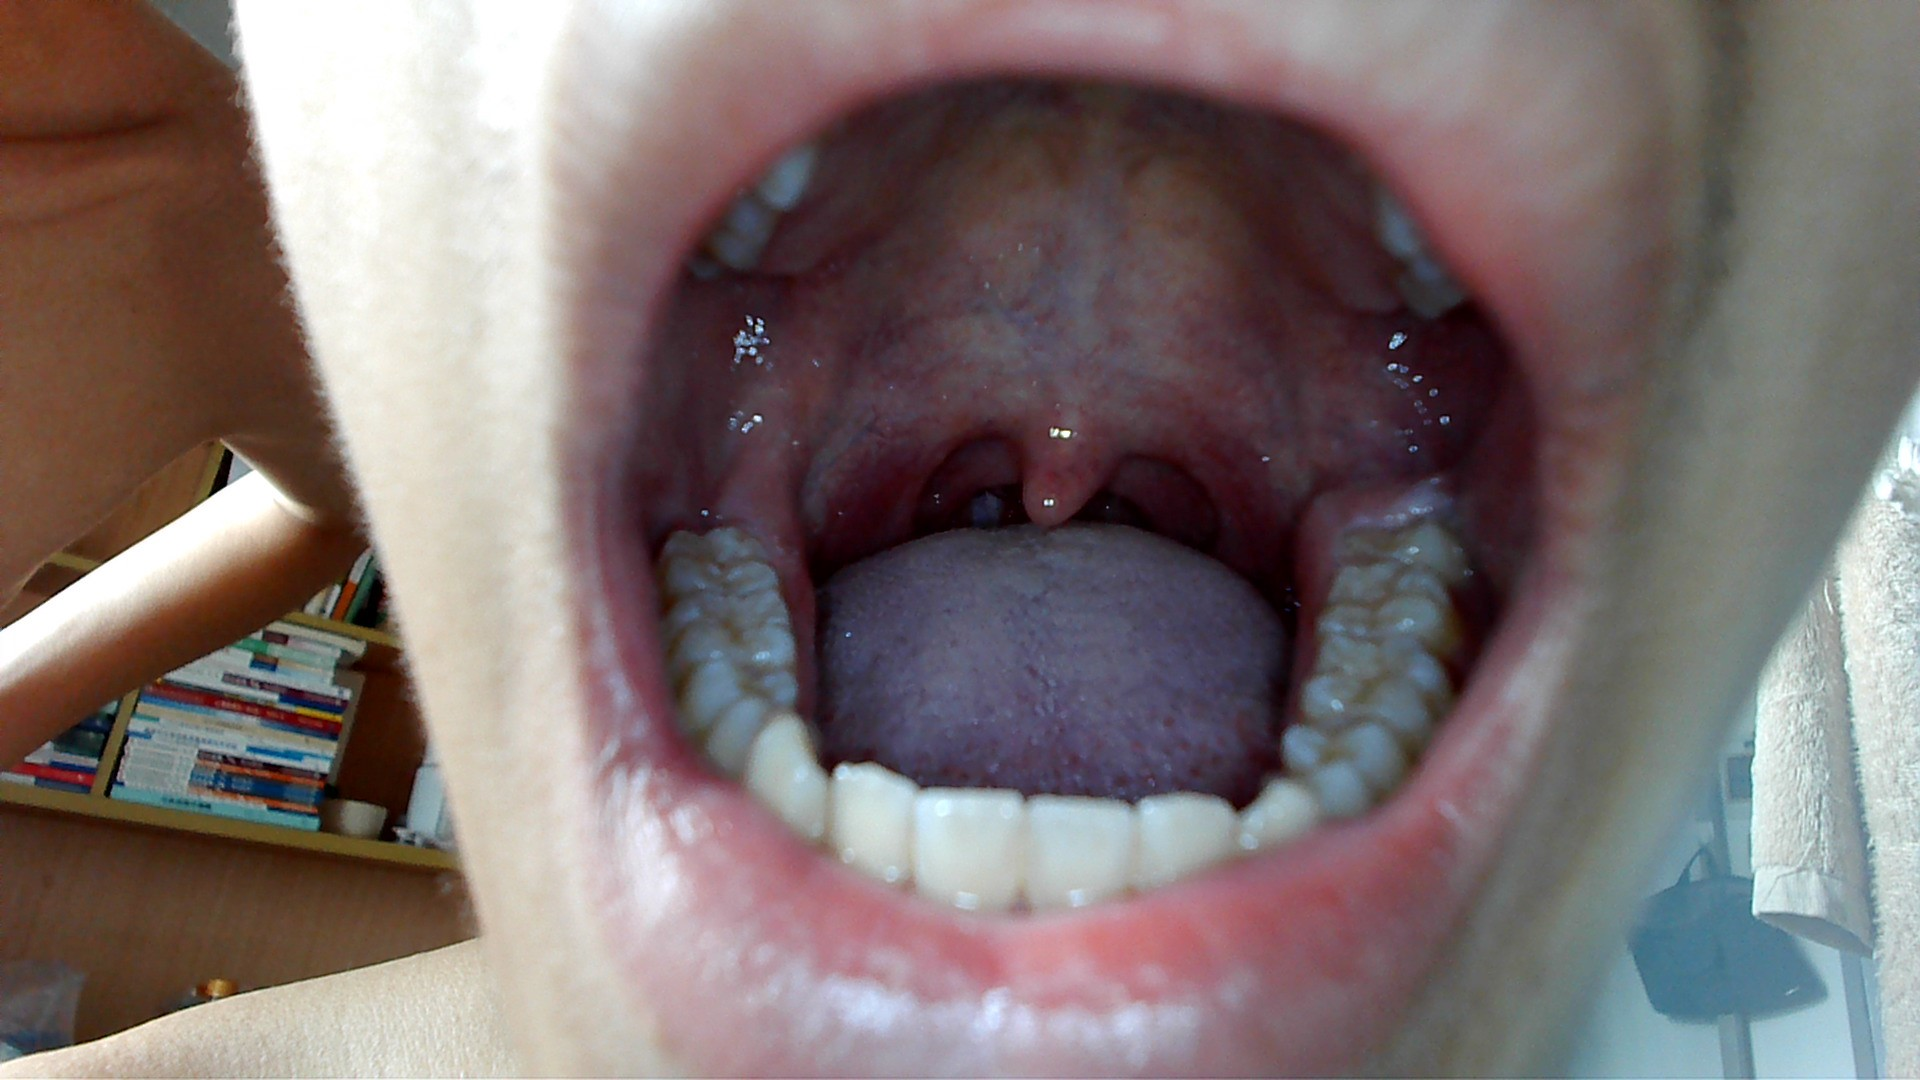throat: (1182, 411, 1278, 553), (874, 407, 953, 535)
